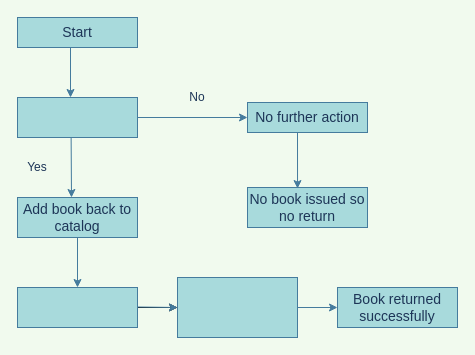
Image size: 475x355. Some labels were removed from this diagram. The shapes that lost their labels are listed below. From the top down, each one's centre as x and y in pixels, then its label:
point 77,117: Any book issued previously ?
point 77,307: Increment in total count of book
point 237,307: Remove book from member account
